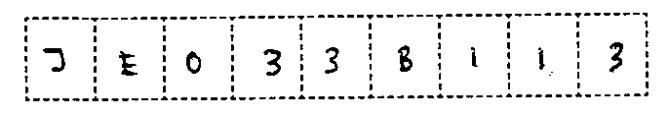0: (176, 45, 212, 82)
1: (527, 41, 555, 74), (461, 42, 488, 74)
3: (254, 44, 290, 84), (602, 37, 632, 78), (318, 42, 347, 79)
B: (391, 40, 419, 80)
E: (110, 46, 143, 83)
J: (37, 44, 73, 77)
